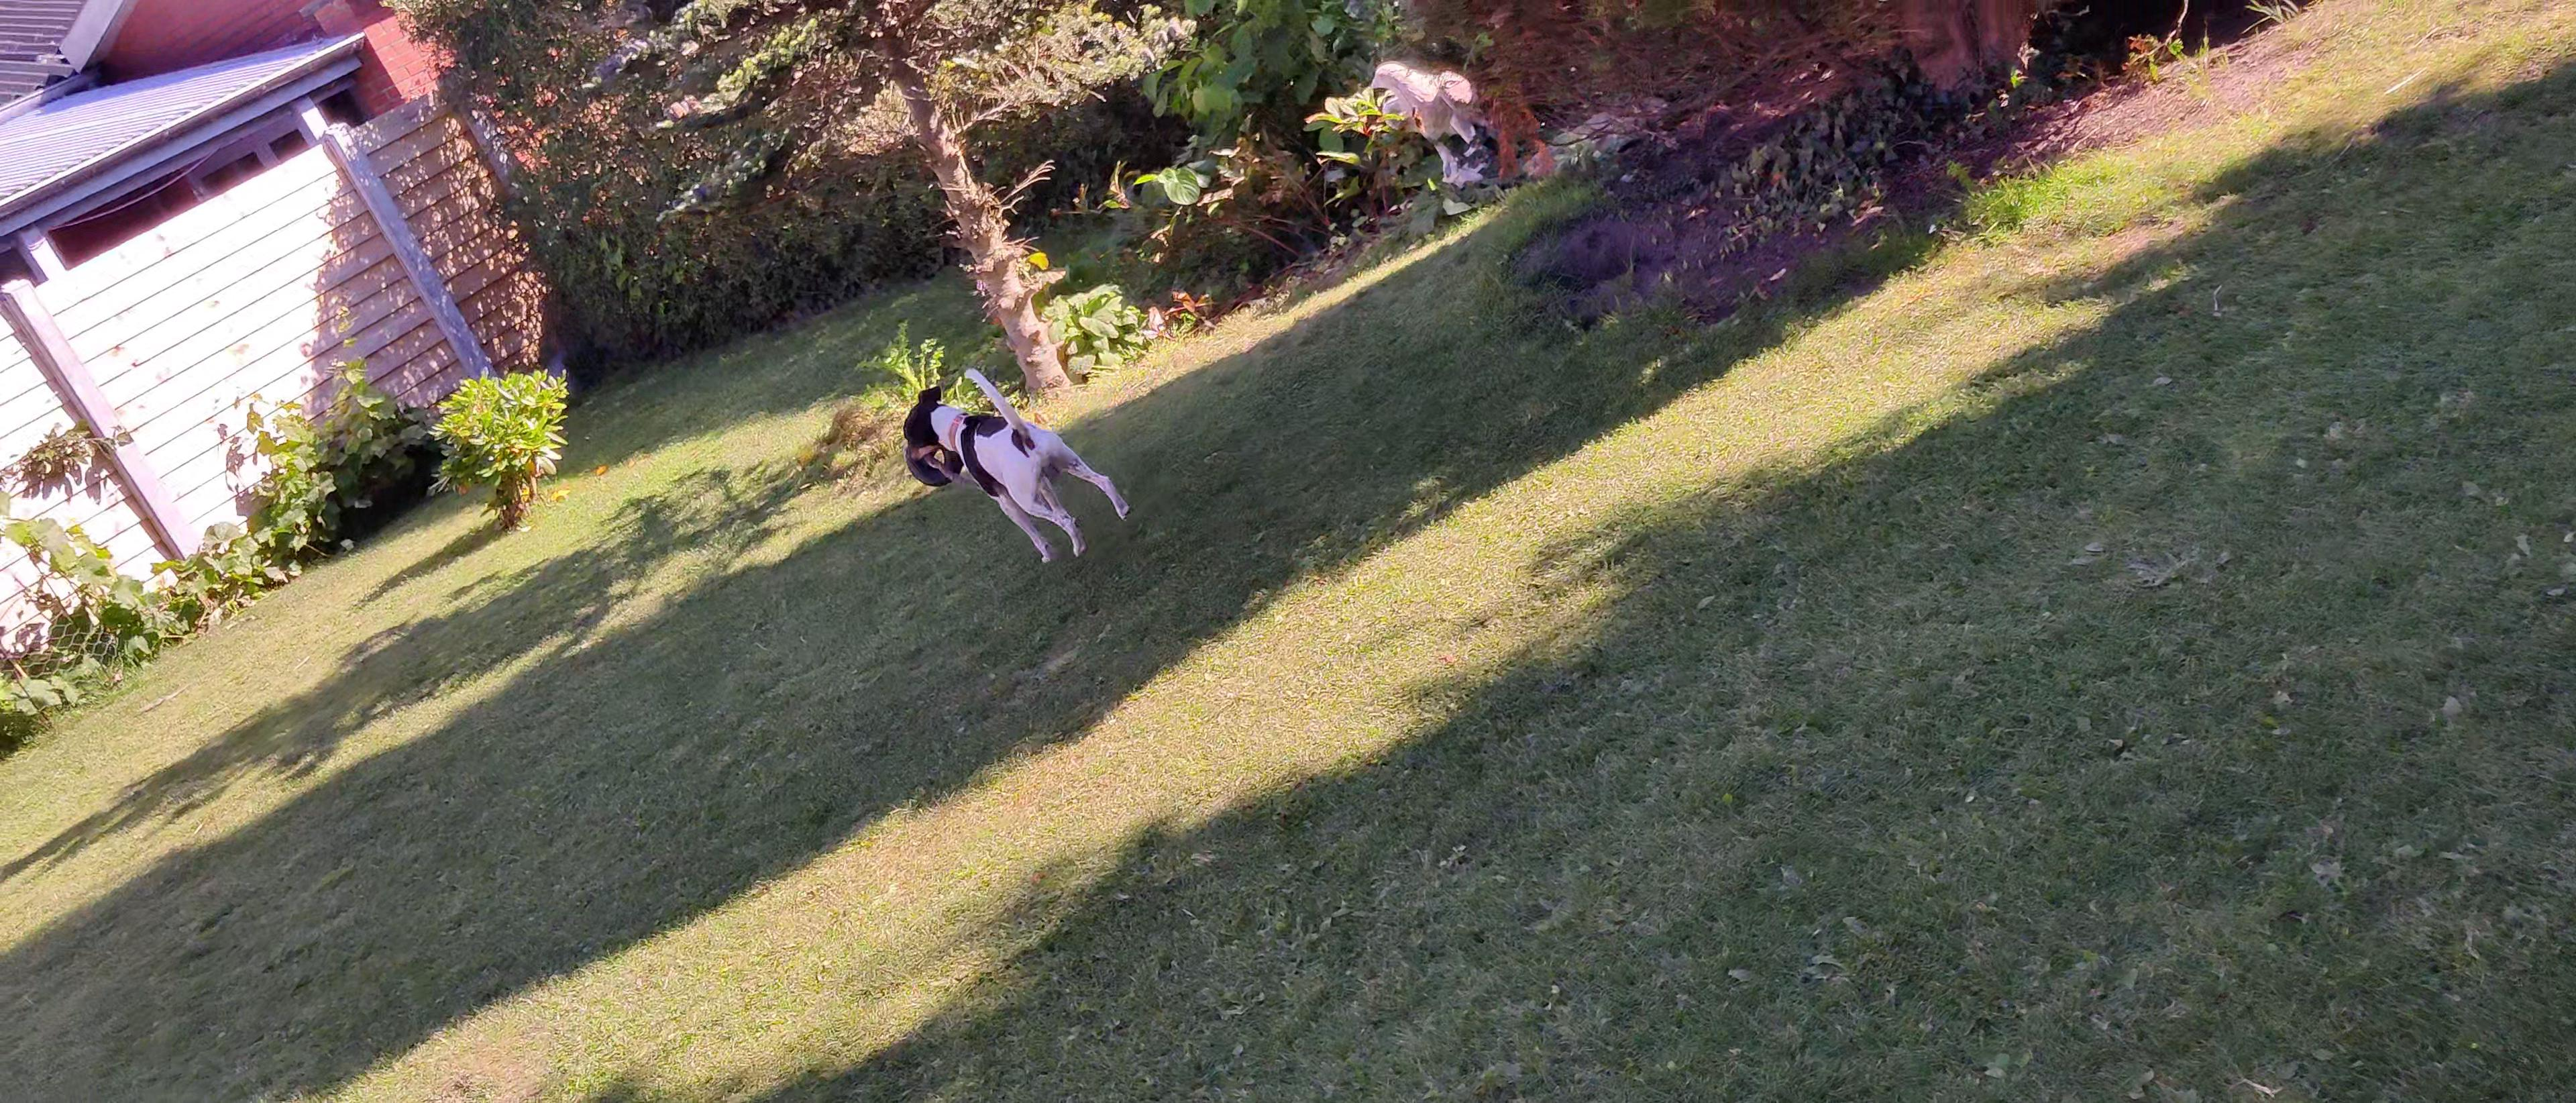Dog: (902, 362, 1132, 565)
